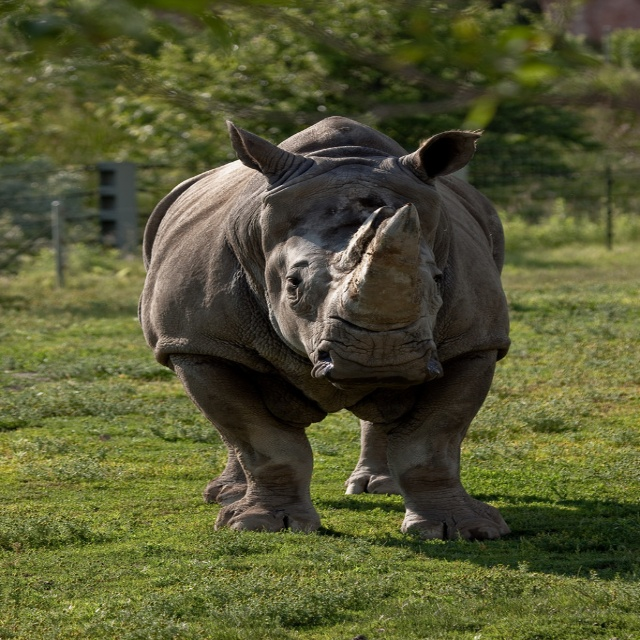Rhinoceros: (138, 116, 510, 541)
